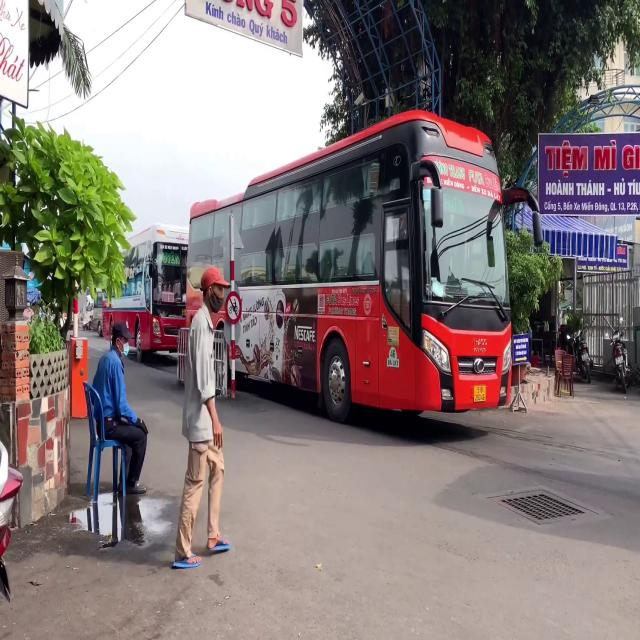bien_vang: (472, 384, 487, 404)
